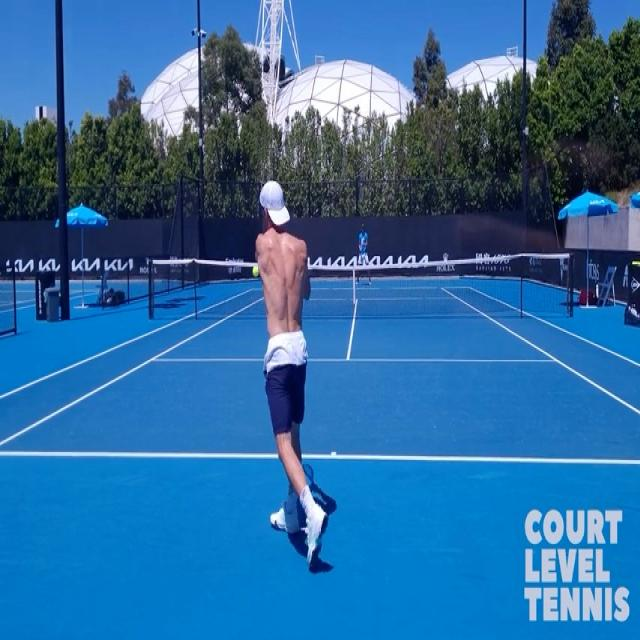backhand-stroke: (243, 182, 326, 582)
